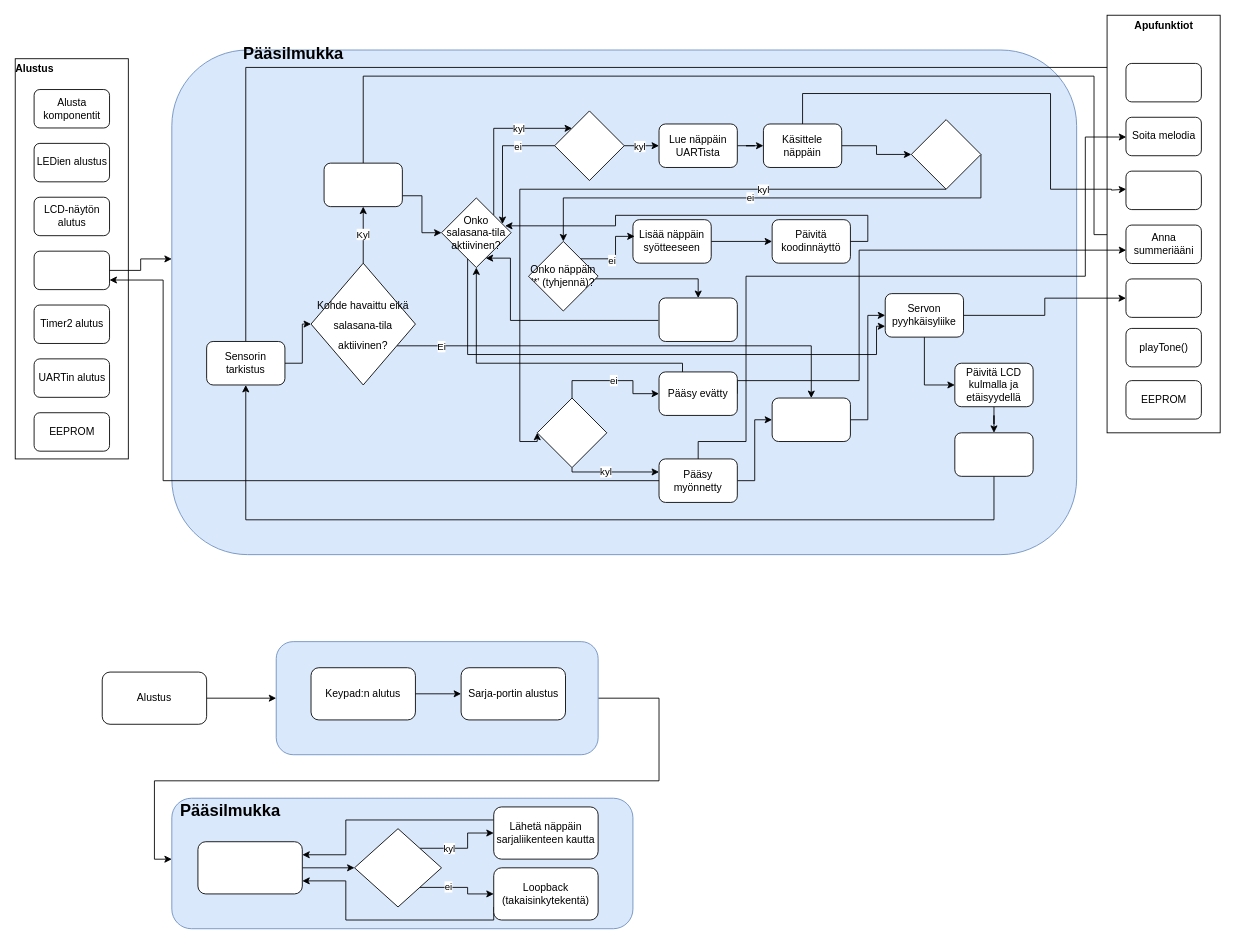
The diagram is 1235 pixels wide and 944 high, and some of its shapes have lost their labels. Each missing label, with the centre of its shape:
Aikakatko servon pyyhkäisyyn: (x=1163, y=297)
Hae etäisyys sensorilta: (x=1163, y=82)
Käsittele näppäinnmerkki: (x=1163, y=190)
Lähetö debug-tila sarjaportiin: (x=993, y=454)
Normaali toiminta: (x=810, y=419)
Odota näppäimen painallusta: (x=249, y=867)
Onko näppäin '#' (lähetä)?: (x=945, y=154)
onko näppäintä painettu?: (x=398, y=867)
Onko salasana oikein?: (x=571, y=432)
Onko UART-syötettä saatavilla?: (x=589, y=145)
Servon alustus: (x=71, y=270)
Siirry salasana-tilaan: (x=362, y=184)
Tyhjennä syöte ja näytä kehotus: (x=697, y=319)
